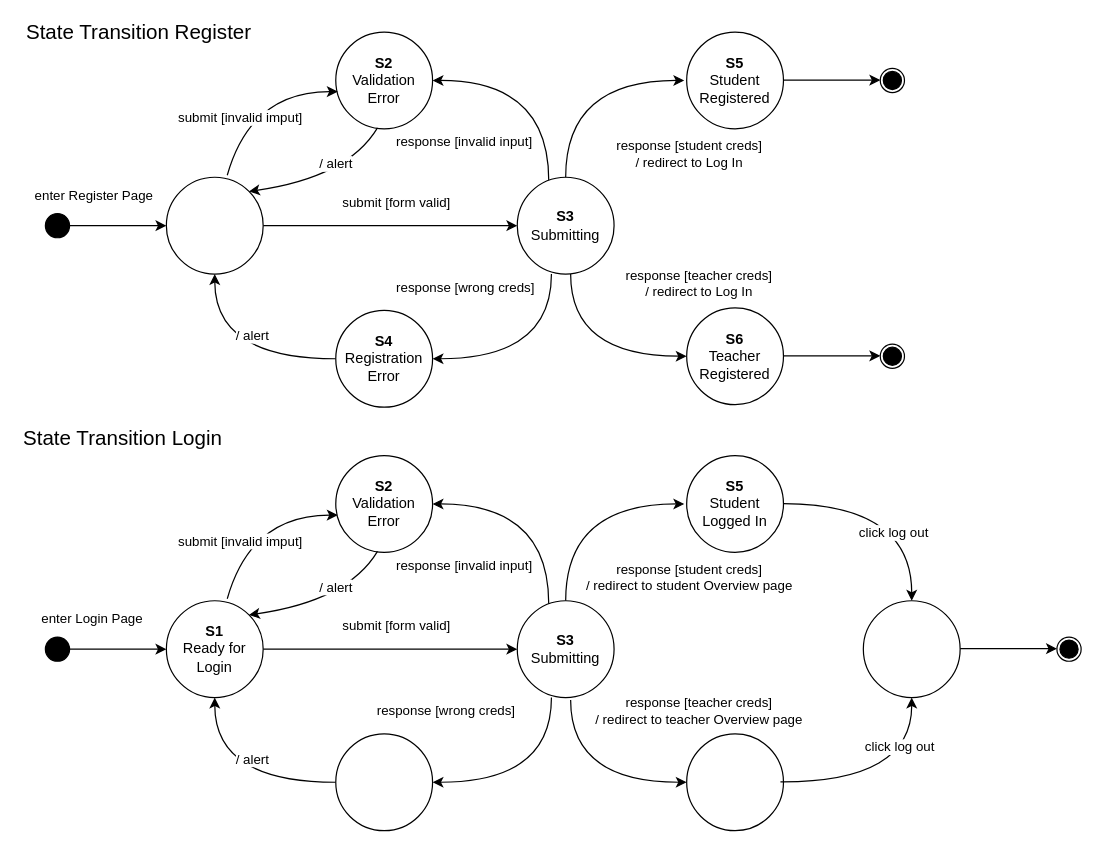
The diagram is 1102 pixels wide and 852 high, and some of its shapes have lost their labels. Each missing label, with the centre of its shape:
S1 Ready for Register: point (214, 225)
S4 Login Error: point (384, 782)
S6 Teacher Logged In: point (734, 782)
S7 Logged Out: point (911, 649)
